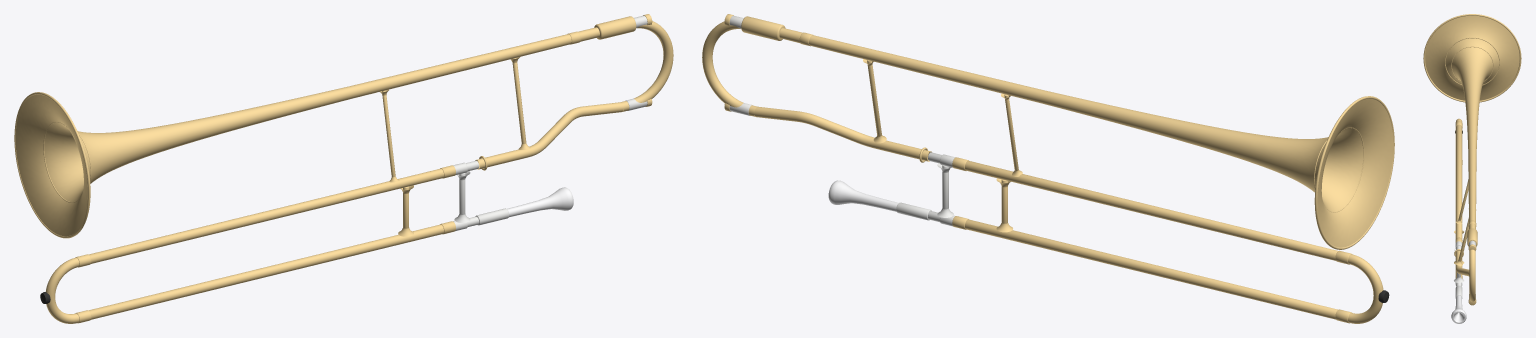
File: trombone.glb
3 renders of one model, left to right at view 1: azimuth 30°, elevation 25°; view 2: azimuth 150°, elevation 25°; view 3: azimuth 270°, elevation 25°, orthographic. The views are drawn at different scales.
Parts seen in each view (by area): view 1: Body, slide, slideTip; view 2: Body, slide, slideTip; view 3: Body, slide.
Boxes of the visible parts, <box> form: Body: <box>14,14,673,238</box>; slide: <box>40,165,455,323</box>; slideTip: <box>45,257,79,323</box>; Body: <box>702,14,1394,249</box>; slide: <box>952,157,1389,323</box>; slideTip: <box>1348,254,1383,323</box>; Body: <box>1423,14,1521,323</box>; slide: <box>1454,121,1464,278</box>.
Bounding box in the file's own units: 1.08 × 0.3667 × 0.2187.
